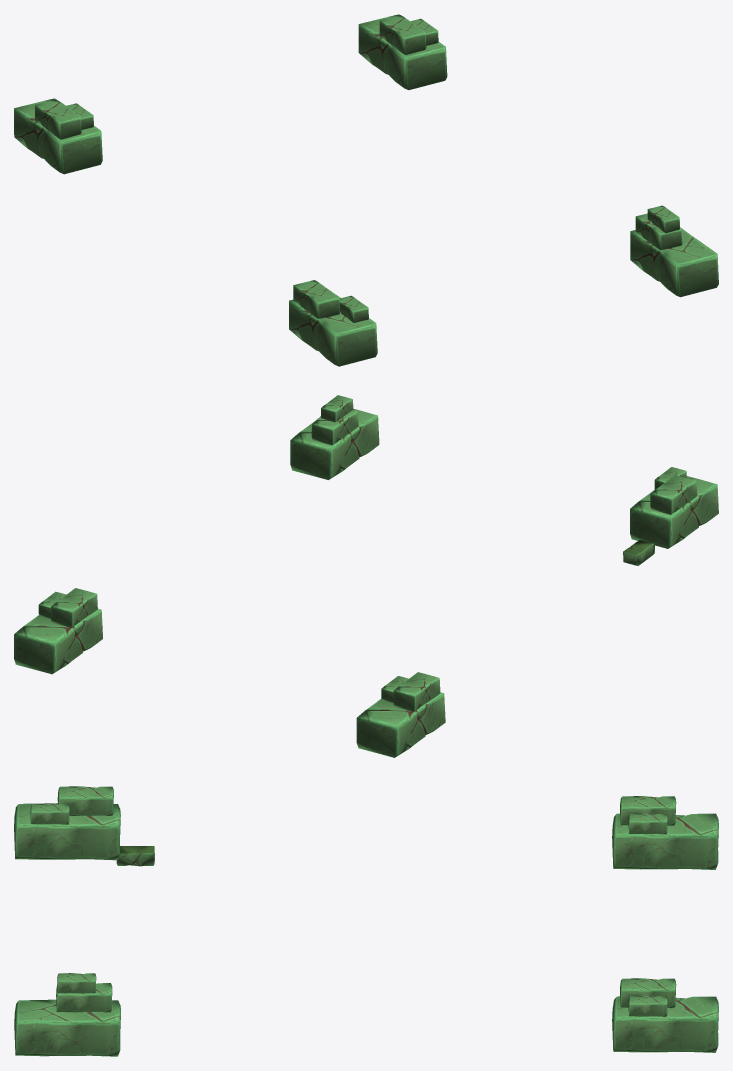
Rendered from walls_east_west.obj.
3 renders of one model, top to bottom at view 1: azimuth 30°, elevation 25°; view 2: azimuth 150°, elevation 25°; view 3: azimuth 270°, elevation 25°, orthographic. The views are drawn at different scales.
Parts seen in each view (by area): view 1: brick3_low.069, brick3_low.095, brick3_low.035, brick3_low.010, brick3_low.036, brick3_low.009, brick3_low.096, brick3_low.068, brick3_low.070, brick3_low.094; view 2: brick3_low.035, brick3_low.010, brick3_low.069, brick3_low.095, brick3_low.036, brick3_low.009, brick3_low.096, brick3_low.068, brick3_low.070, brick3_low.067; view 3: brick3_low.069, brick3_low.035, brick3_low.010, brick3_low.095, brick3_low.096, brick3_low.068, brick3_low.036, brick3_low.009, brick3_low.094, brick3_low.011, brick3_low.034, brick3_low.070 (+1 smaller).
Part boxes in pixels (x1,y1,x2,y2): brick3_low.069: (630, 227, 718, 297); brick3_low.095: (289, 297, 377, 366); brick3_low.035: (358, 14, 447, 89); brick3_low.010: (14, 98, 102, 174); brick3_low.036: (379, 15, 426, 54); brick3_low.009: (35, 99, 81, 139); brick3_low.096: (293, 280, 339, 318); brick3_low.068: (635, 213, 682, 249); brick3_low.070: (647, 205, 679, 233); brick3_low.094: (339, 295, 368, 322); brick3_low.035: (14, 608, 102, 674); brick3_low.010: (356, 692, 445, 757); brick3_low.069: (290, 408, 379, 479); brick3_low.095: (630, 476, 718, 548); brick3_low.036: (51, 588, 97, 627); brick3_low.009: (393, 672, 440, 711); brick3_low.096: (650, 475, 697, 514); brick3_low.068: (311, 410, 358, 445); brick3_low.070: (320, 395, 353, 422); brick3_low.067: (623, 540, 654, 565); brick3_low.069: (14, 999, 120, 1056); brick3_low.035: (612, 996, 718, 1052); brick3_low.010: (612, 813, 718, 869); brick3_low.095: (14, 803, 120, 860); brick3_low.096: (57, 786, 113, 815); brick3_low.068: (56, 983, 112, 1012); brick3_low.036: (620, 978, 676, 1008); brick3_low.009: (620, 796, 676, 825); brick3_low.094: (30, 804, 69, 824); brick3_low.011: (628, 813, 667, 834); brick3_low.034: (628, 996, 667, 1016); brick3_low.070: (57, 973, 96, 993).
Size of the model in its own units: 2349 by 368 by 3401.
